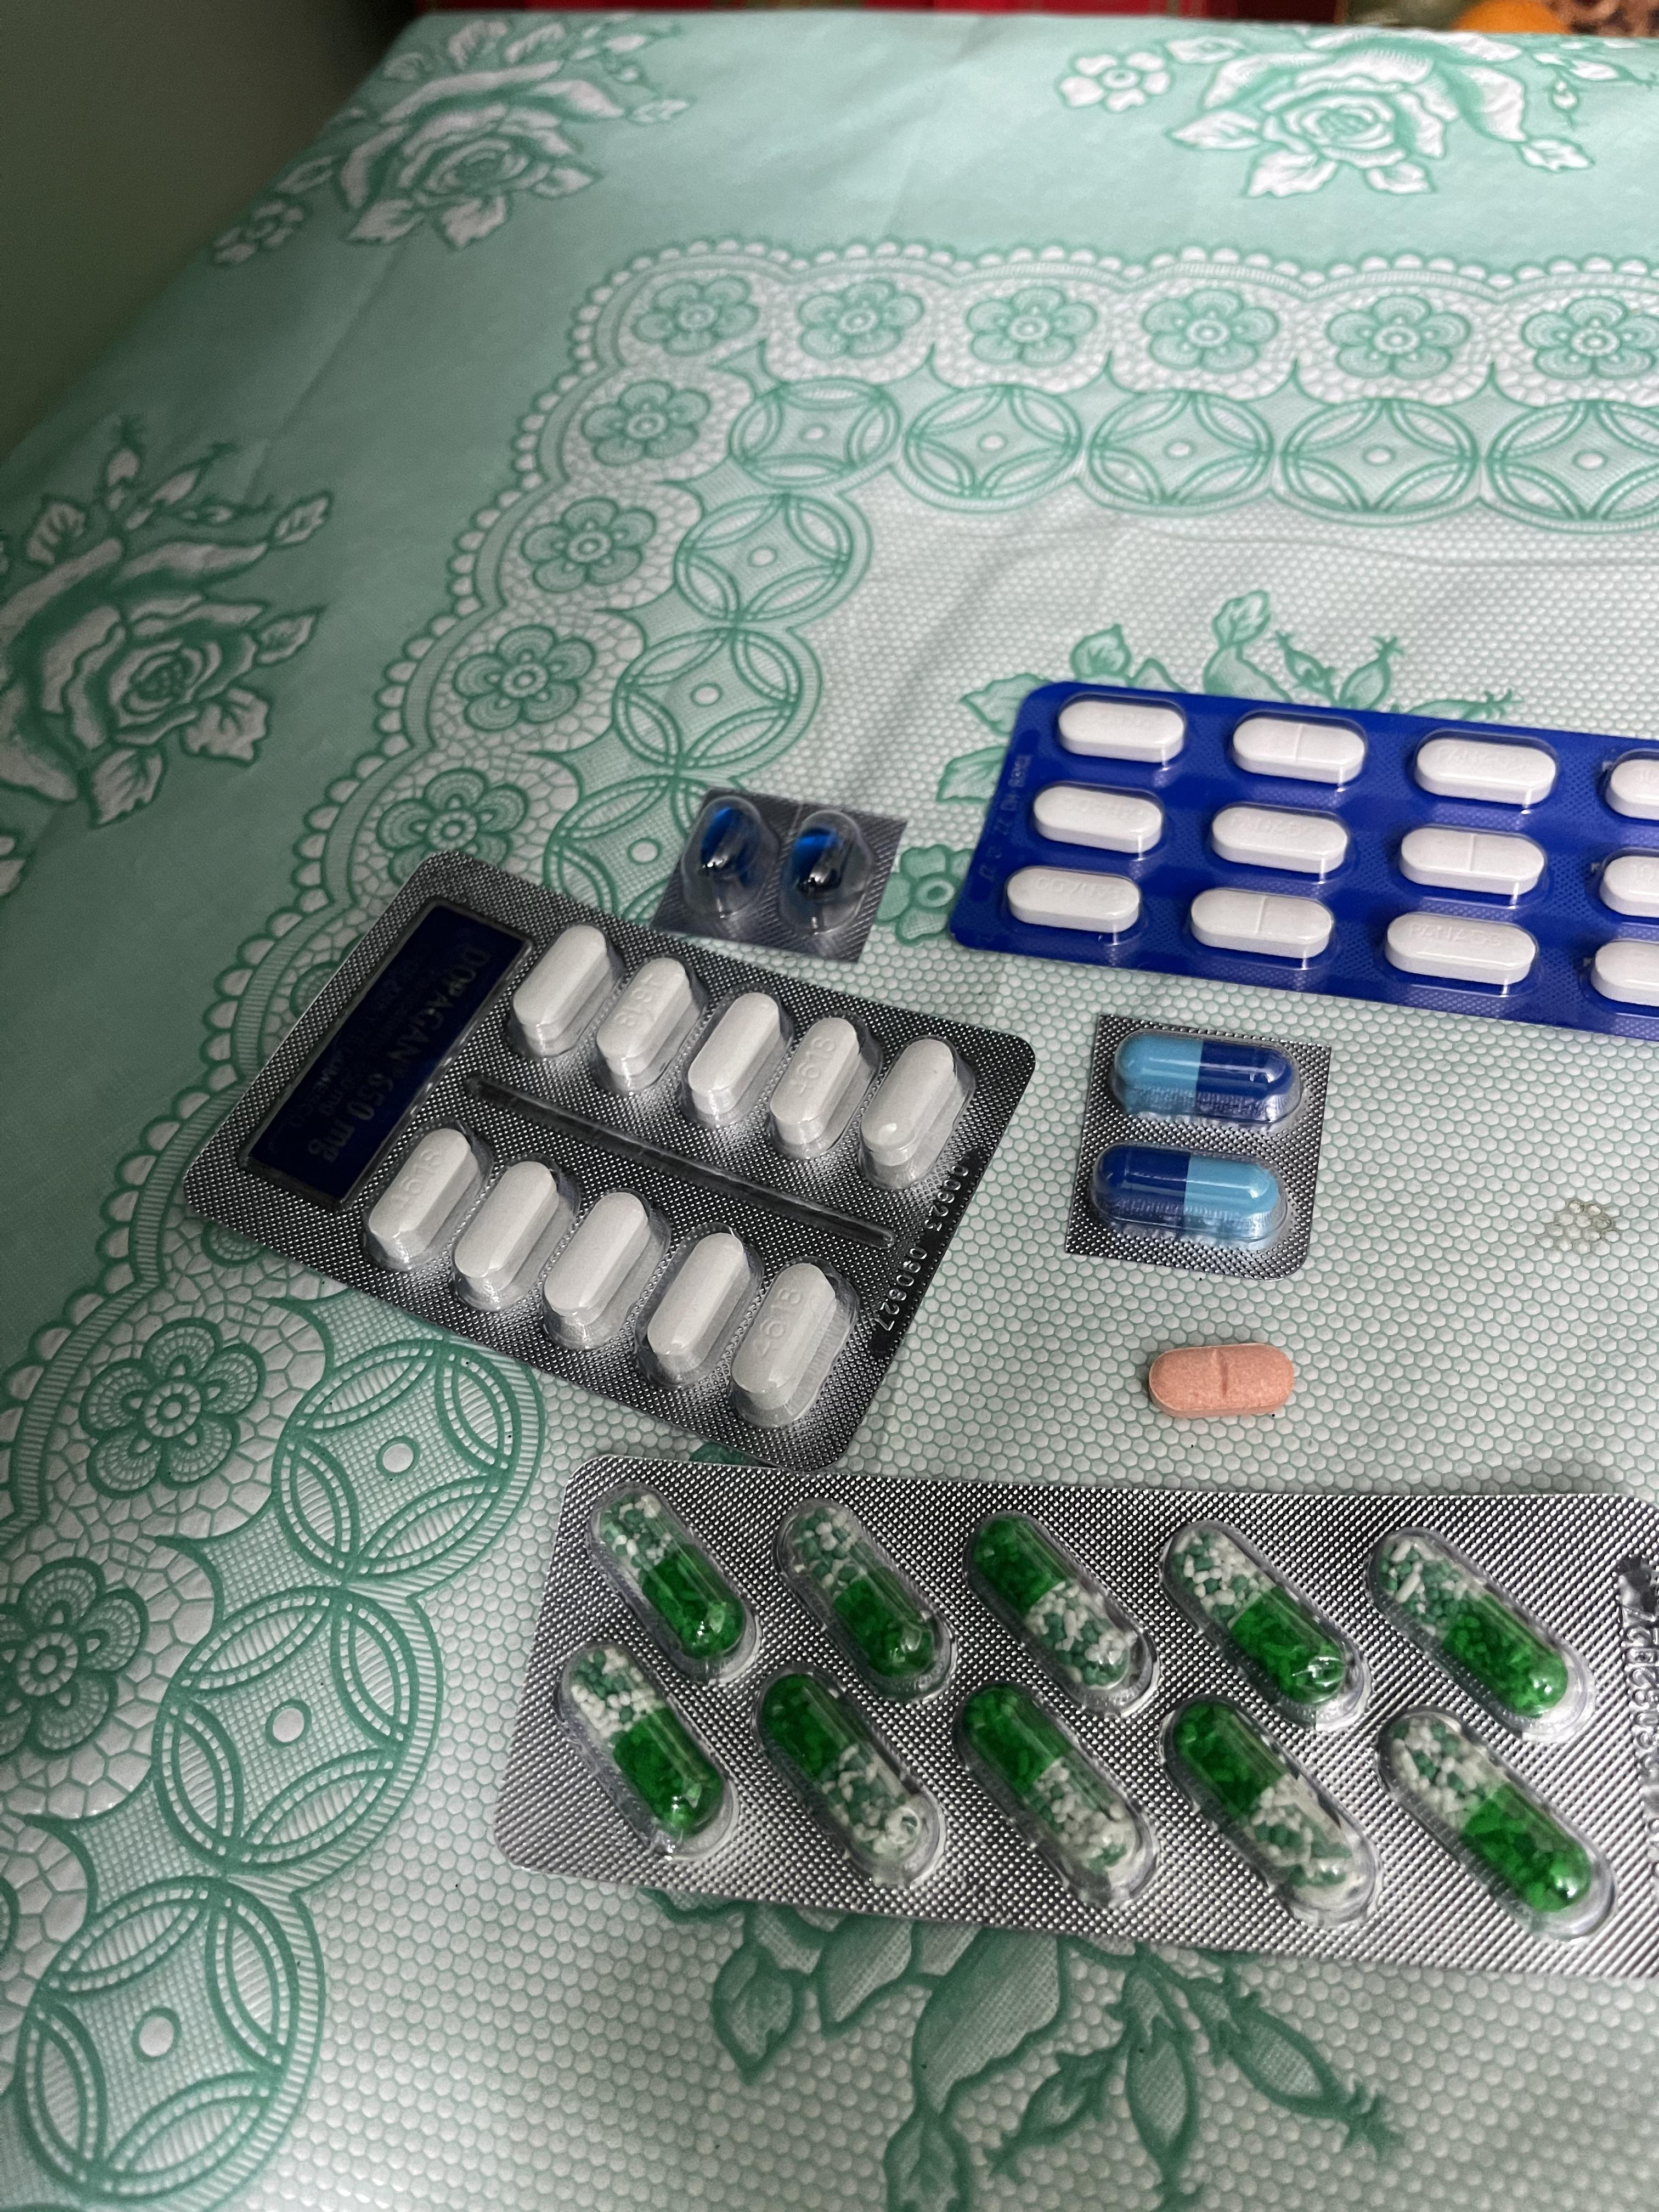Lincomyxin_500mg: (697, 805, 756, 881), (789, 827, 845, 899)
Loratadine_10mg: (1147, 1341, 1293, 1416)
Paracetamol_350mg: (1384, 911, 1537, 988), (1396, 827, 1542, 900), (1190, 888, 1333, 963), (1412, 735, 1556, 806), (1209, 803, 1349, 876), (1230, 714, 1366, 784), (1033, 784, 1161, 855), (1007, 866, 1138, 934), (1058, 697, 1187, 765)
Paracetamol_500mg: (727, 1261, 850, 1426), (540, 1190, 666, 1350), (451, 1157, 570, 1312), (645, 1233, 760, 1392), (859, 1036, 969, 1190), (366, 1130, 481, 1275), (687, 989, 793, 1137), (592, 958, 699, 1099), (767, 1015, 868, 1163), (511, 927, 622, 1061)
Paracetamol_650mg: (1391, 1712, 1598, 1921), (1176, 1702, 1363, 1916), (774, 1500, 953, 1702), (765, 1672, 938, 1879), (1377, 1536, 1572, 1717), (974, 1688, 1143, 1890), (1178, 1529, 1344, 1714), (573, 1651, 728, 1841), (979, 1517, 1136, 1696), (606, 1491, 749, 1665)
pill: (1096, 1150, 1284, 1245), (1114, 1035, 1298, 1127)
